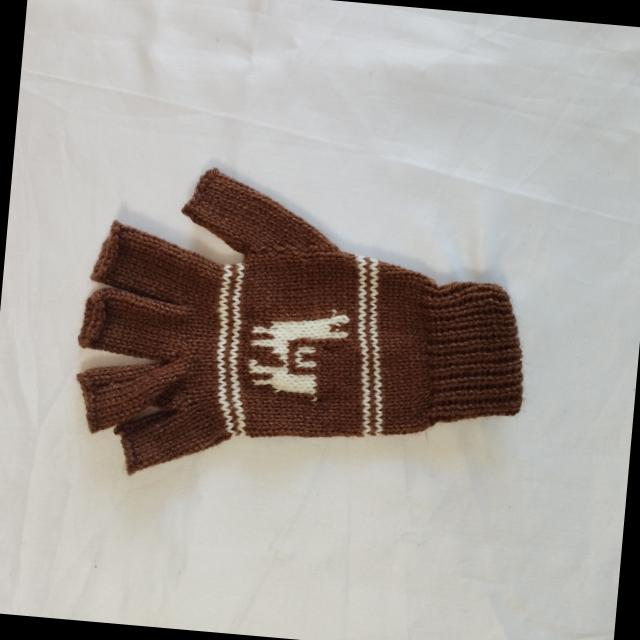Guante: (66, 156, 542, 510)
